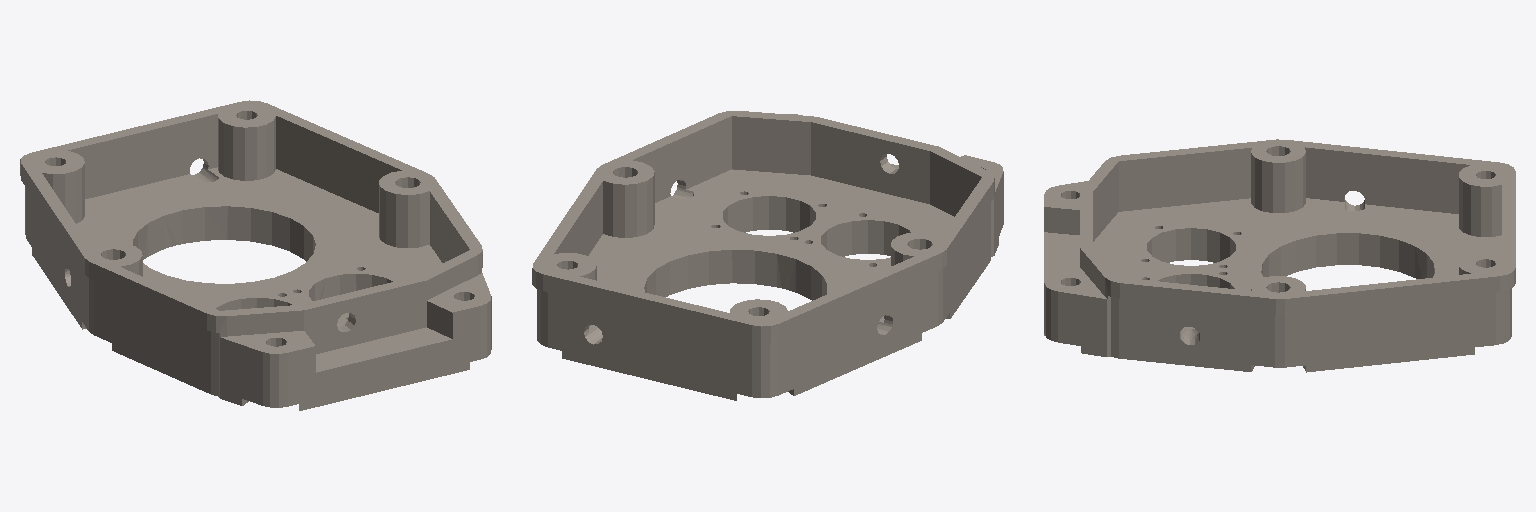
The robot description file, URDF, robot "casing":
<?xml version="1.0" encoding="utf-8"?>
<!-- This URDF was automatically created by SolidWorks to URDF Exporter! Originally created by [author] ([email redacted]) 
     Commit Version: 1.6.0-1-g15f4949  Build Version: 1.6.7594.29634
     For more information, please see http://wiki.ros.org/sw_urdf_exporter -->
<robot
  name="casing">
  <link
    name="base_link">
    <inertial>
      <origin
        xyz="-2.2961E-05 0.13215 0.00098334"
        rpy="0 0 0" />
      <mass
        value="6.9162" />
      <inertia
        ixx="0.049162"
        ixy="-1.2945E-05"
        ixz="-9.9036E-07"
        iyy="0.027533"
        iyz="-0.00044568"
        izz="0.074327" />
    </inertial>
    <visual>
      <origin
        xyz="0 0 0"
        rpy="0 0 0" />
      <geometry>
        <mesh
          filename="package://casing/meshes/base_link.STL" />
      </geometry>
      <material
        name="">
        <color
          rgba="0.65098 0.61961 0.58824 1" />
      </material>
    </visual>
    <collision>
      <origin
        xyz="0 0 0"
        rpy="0 0 0" />
      <geometry>
        <mesh
          filename="package://casing/meshes/base_link.STL" />
      </geometry>
    </collision>
  </link>
</robot>

--- What the picture shows (computed from the rendered views, not written in the file) ---
Views: 3 orthographic renders of the robot side by side, from view 1: azimuth 30°, elevation 25°; view 2: azimuth 150°, elevation 25°; view 3: azimuth 270°, elevation 25°.
Robot: casing — 1 links, 0 joints (none); root link base_link; default pose: all joints at 0.
Links seen in each view (by area): view 1: base_link; view 2: base_link; view 3: base_link.
Link boxes in pixels (left/top/right/bottom): base_link: left=20, top=100, right=491, bottom=410; base_link: left=532, top=111, right=1003, bottom=400; base_link: left=1044, top=139, right=1515, bottom=372.
Size in the robot's own frame: 0.2169 by 0.2703 by 0.0522 metres.
1 mesh visuals loaded from 1 distinct referenced files (1 binary STL).